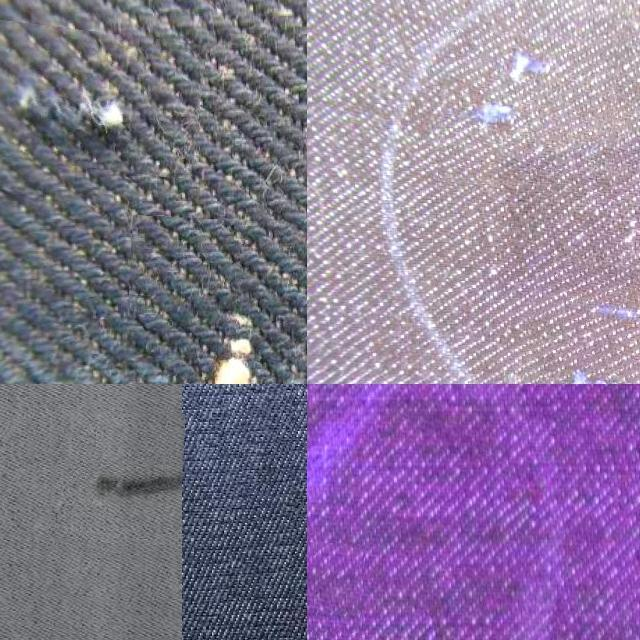Hole: (50, 410, 184, 554)
Thread_other: (122, 218, 307, 384), (0, 25, 203, 173), (439, 32, 617, 188), (522, 258, 640, 384), (307, 540, 362, 640)
